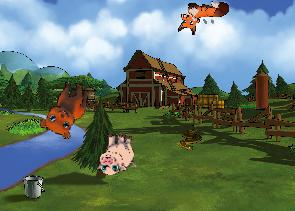bear: (37, 75, 91, 141)
fox: (177, 0, 229, 35)
pig: (96, 132, 136, 175)
